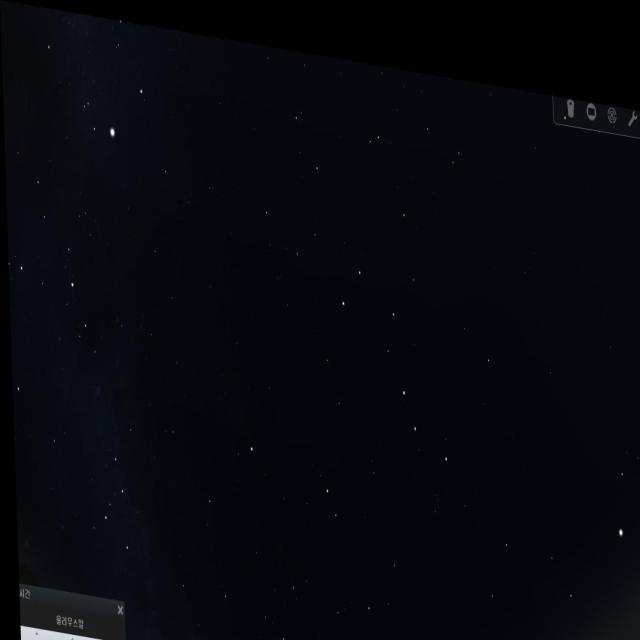cassiopeia: (90, 388, 158, 573)
ursa_major: (330, 238, 452, 464)
